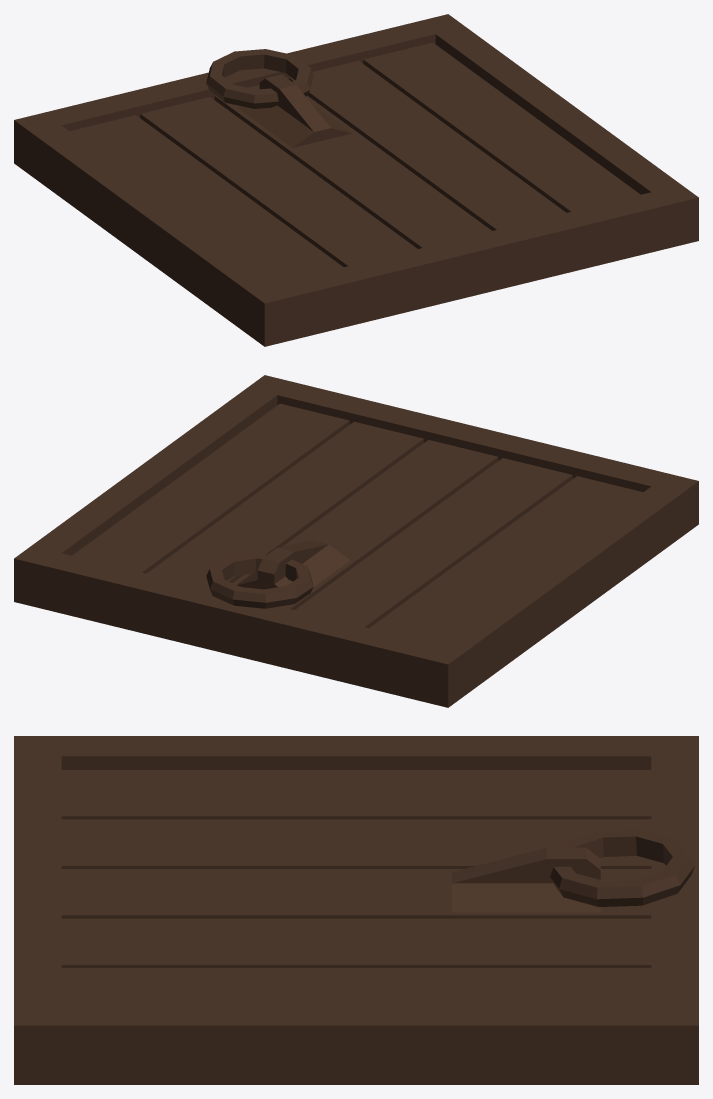
Rendered from Botola nuova.fbx.
The picture shows the model from 3 angles, top to bottom: view 1: azimuth 30°, elevation 25°; view 2: azimuth 150°, elevation 25°; view 3: azimuth 270°, elevation 25°; orthographic projection. The views are drawn at different scales.
Visible parts, largest first — view 1: trapdoor; view 2: trapdoor; view 3: trapdoor.
Boxes of the visible parts, x1=… form: trapdoor: x1=14, y1=14, x2=698, y2=346; trapdoor: x1=14, y1=375, x2=698, y2=707; trapdoor: x1=14, y1=736, x2=698, y2=1084.
Size of the model in its own units: 283 by 39.83 by 283.
